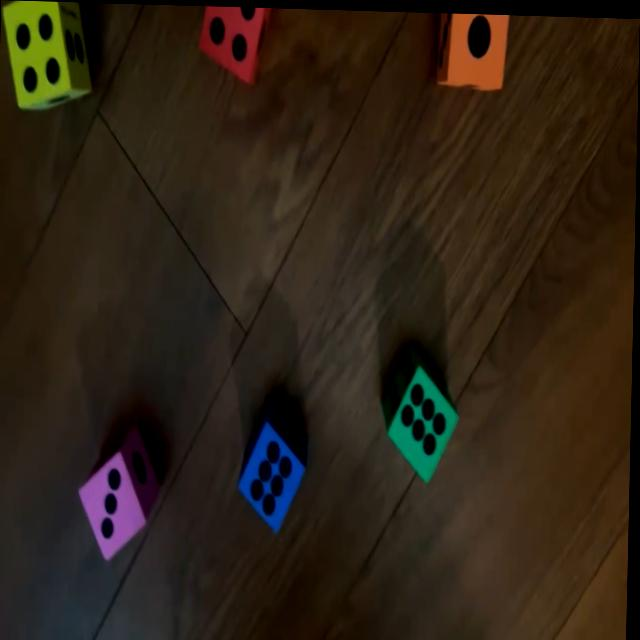blue_block: (238, 393, 308, 533)
red_block: (198, 5, 272, 84)
